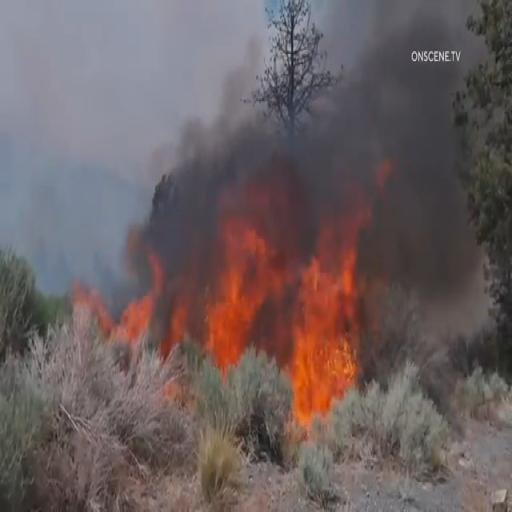fire: (202, 170, 362, 409), (60, 230, 176, 366)
smoke: (374, 97, 454, 354), (329, 15, 404, 166), (142, 100, 212, 231)
